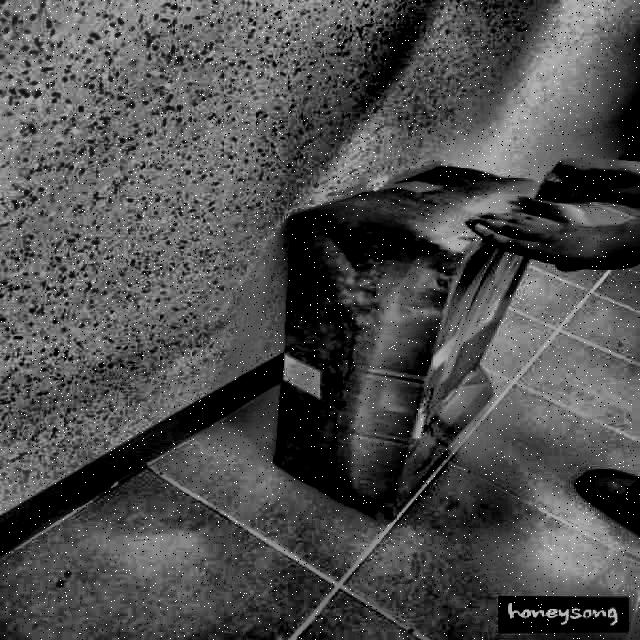box: (265, 152, 576, 541)
wet: (286, 221, 391, 476)
